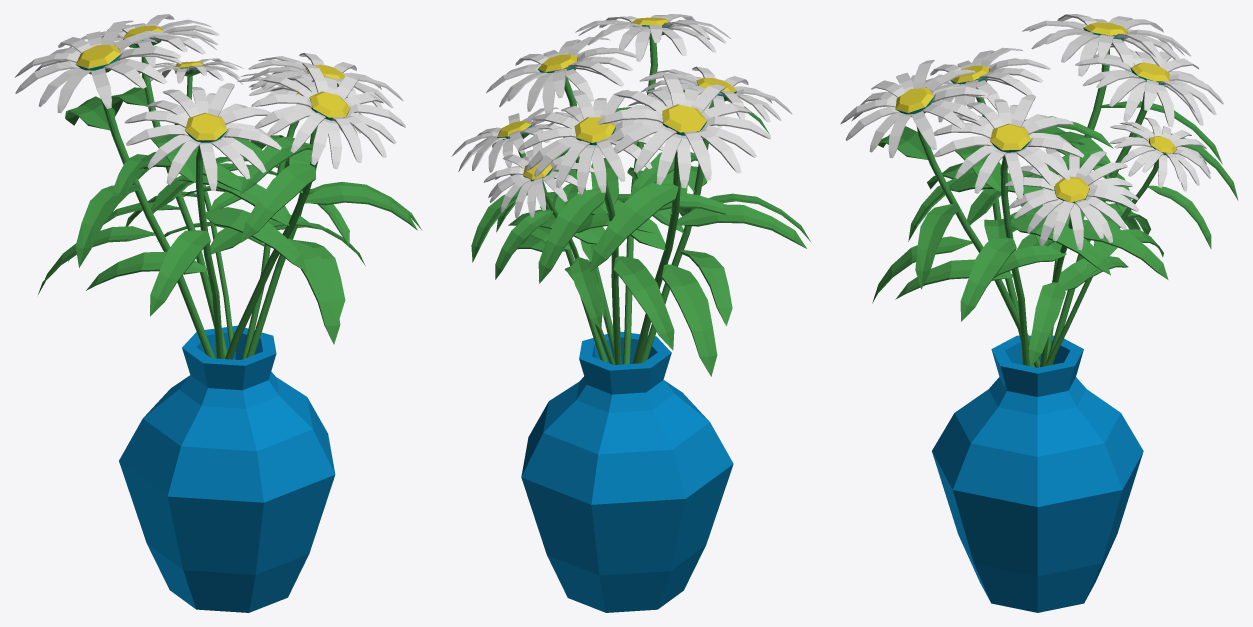
3 renders of one model, left to right at view 1: azimuth 30°, elevation 25°; view 2: azimuth 150°, elevation 25°; view 3: azimuth 270°, elevation 25°, orthographic. The views are drawn at different scales.
Parts seen in each view (by area): view 1: node_MeshObject-1668924416-PolyPaper10, node_MeshObject434838528-PolyPaper10; view 2: node_MeshObject-1668924416-PolyPaper10, node_MeshObject434838528-PolyPaper10; view 3: node_MeshObject-1668924416-PolyPaper10, node_MeshObject434838528-PolyPaper10.
Boxes of the visible parts, bbox=[...] form: node_MeshObject-1668924416-PolyPaper10: bbox=[34, 14, 403, 612]; node_MeshObject434838528-PolyPaper10: bbox=[14, 19, 422, 359]; node_MeshObject-1668924416-PolyPaper10: bbox=[486, 36, 733, 612]; node_MeshObject434838528-PolyPaper10: bbox=[451, 14, 810, 376]; node_MeshObject-1668924416-PolyPaper10: bbox=[932, 20, 1223, 612]; node_MeshObject434838528-PolyPaper10: bbox=[840, 14, 1238, 367].
Bounding box in the file's own units: 0.2365 × 0.3826 × 0.2619.
